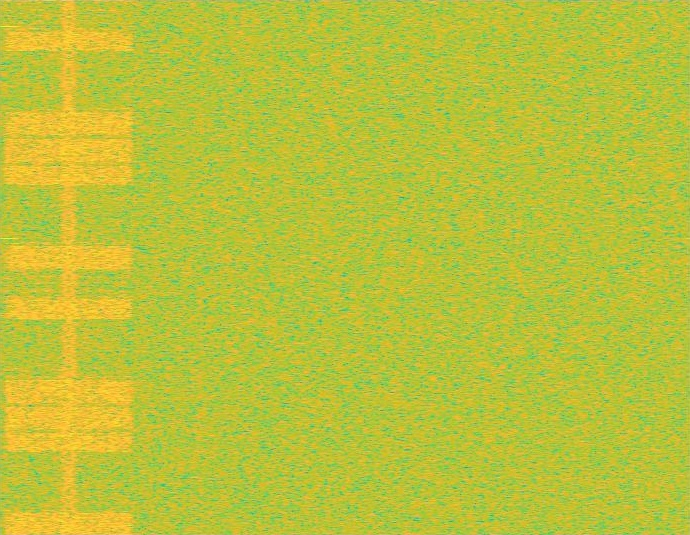DSSS: (60, 0, 78, 534)
LTE: (0, 0, 138, 534)
Radar: (2, 0, 16, 534)
